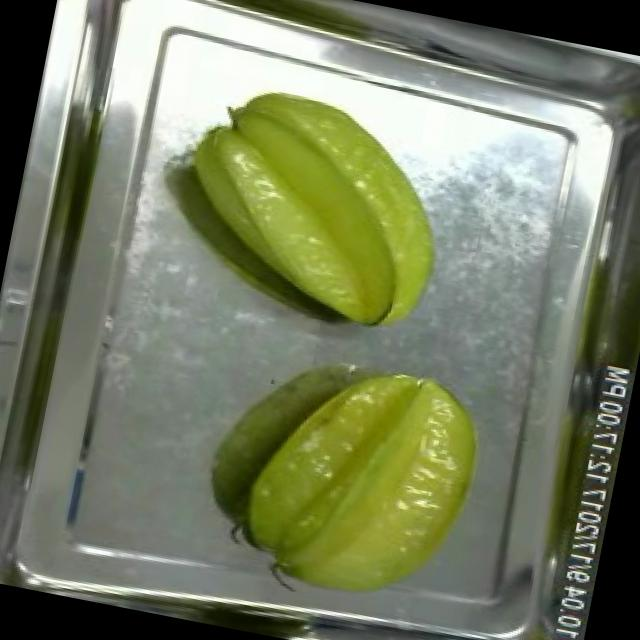fruit: (148, 67, 470, 349), (215, 333, 506, 628)
